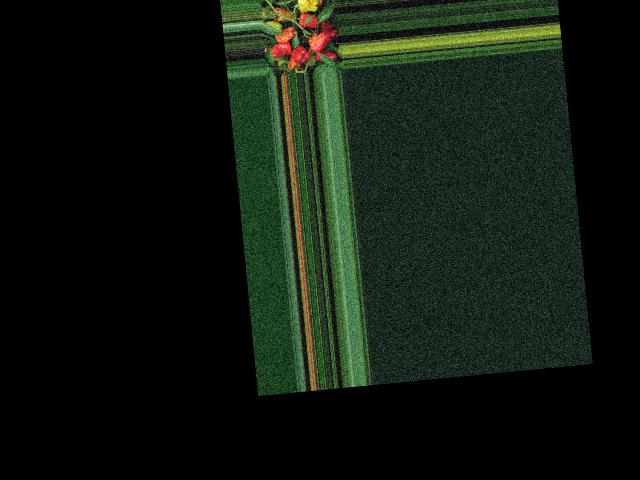bell_pepper: (287, 58, 298, 72)
